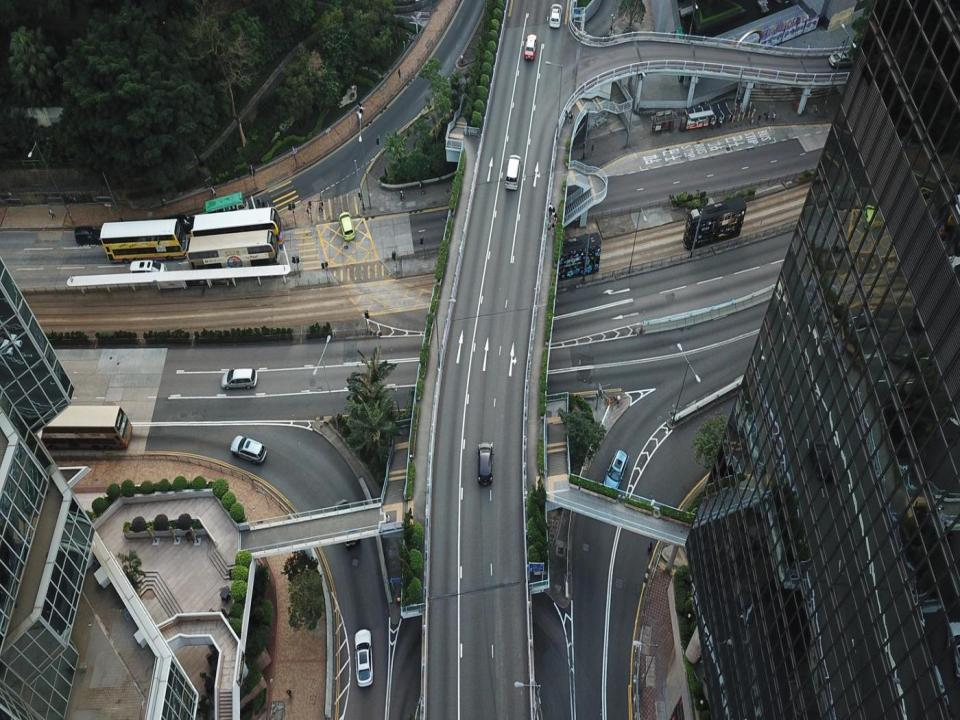bus: (30, 401, 134, 455), (188, 232, 276, 274), (96, 220, 186, 260), (681, 199, 749, 251), (193, 208, 278, 245), (542, 231, 603, 282), (201, 191, 247, 227), (685, 106, 718, 128)
car: (333, 499, 362, 548), (353, 627, 374, 686), (603, 447, 629, 494), (220, 365, 260, 394), (231, 434, 268, 464), (478, 438, 495, 488), (73, 222, 102, 248), (339, 211, 356, 239), (522, 31, 536, 59), (549, 3, 563, 29)
van: (505, 153, 522, 190)
